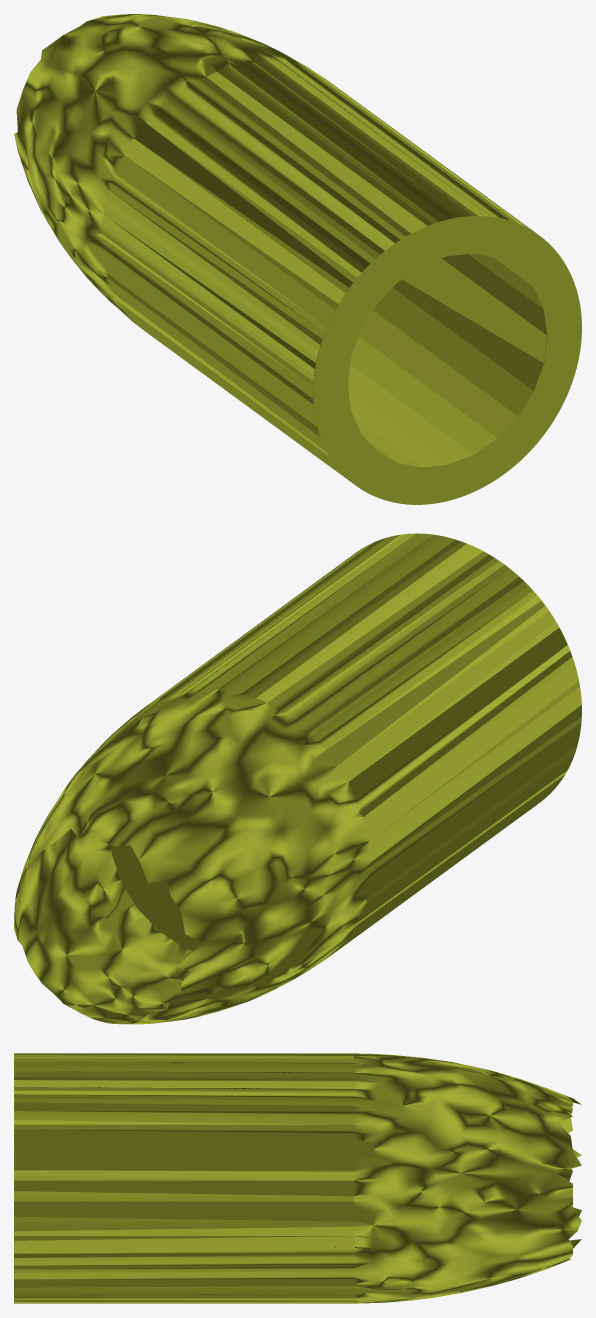
Rendered from model_align.obj.
The picture shows the model from 3 angles, top to bottom: view 1: azimuth 30°, elevation 25°; view 2: azimuth 150°, elevation 25°; view 3: azimuth 270°, elevation 25°; orthographic projection. The views are drawn at different scales.
Size of the model in its own units: 0.0758 by 0.0758 by 0.172.
